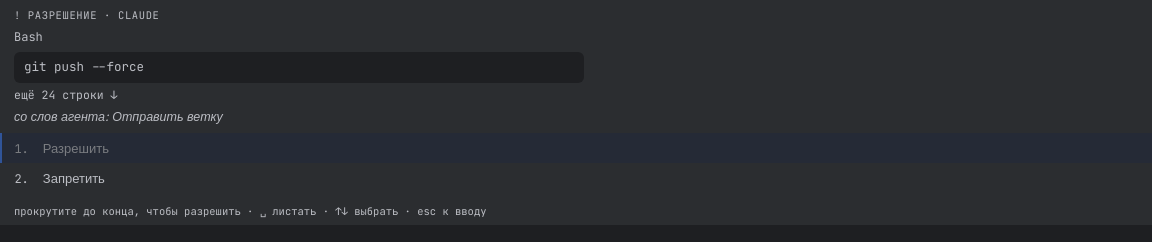
Test case: PermissionPrompt › «ещё N строк ↓» щелчком раскрывает блок целиком — и «Разрешить» доступен
Later steps or results of the test are not shown.
Click the button "ещё 24 строки ↓": [66, 94] box 14,87 -> 118,102
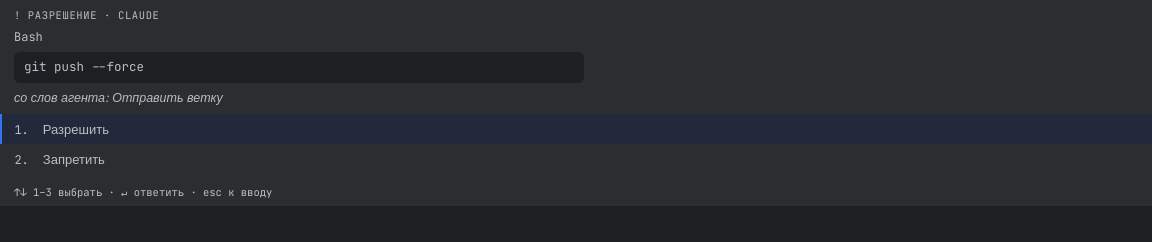
Expected: the button "ещё 24 строки ↓" is gone
